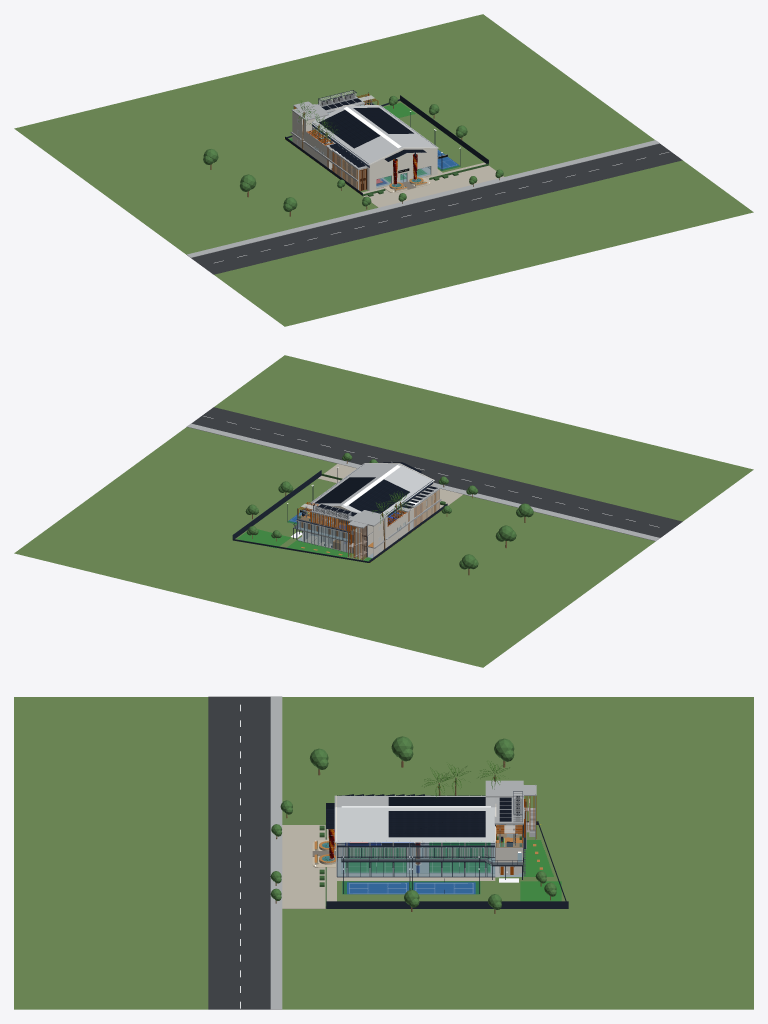
Rendered from MyPlace_Master_vR44.dae.
The picture shows the model from 3 angles, top to bottom: view 1: azimuth 30°, elevation 25°; view 2: azimuth 150°, elevation 25°; view 3: azimuth 270°, elevation 25°; orthographic projection. The views are drawn at different scales.
Visible parts, largest first — view 1: site__grass, site__asphalt, site__concrete, hall_roof__roofSheet, hall_roof__solar, site__paving, hall_shell__plaster, west_wing__plaster, trees__treeCrown, fences__charcoal; view 2: site__grass, site__asphalt, site__concrete, hall_roof__roofSheet, hall_roof__solar, trees__treeCrown, west_wing__plaster, fences__charcoal, outdoor__turf, site__paving; view 3: site__grass, site__asphalt, site__concrete, site__paving, hall_roof__roofSheet, hall_shell__glass, hall_roof__solar, hall_interior__court, trees__treeCrown, fences__charcoal, outdoor__pickleTex, outdoor__turf (+7 smaller).
Boxes of the visible parts, bbox=[...] form: site__grass: bbox=[14, 14, 753, 326]; site__asphalt: bbox=[191, 143, 682, 274]; site__concrete: bbox=[187, 140, 659, 257]; hall_roof__roofSheet: bbox=[312, 105, 438, 165]; hall_roof__solar: bbox=[319, 107, 413, 148]; site__paving: bbox=[362, 162, 503, 207]; hall_shell__plaster: bbox=[312, 105, 437, 190]; west_wing__plaster: bbox=[292, 111, 366, 190]; trees__treeCrown: bbox=[203, 96, 503, 211]; fences__charcoal: bbox=[285, 95, 488, 195]; site__grass: bbox=[14, 355, 753, 667]; site__asphalt: bbox=[191, 407, 682, 537]; site__concrete: bbox=[186, 423, 659, 541]; hall_roof__roofSheet: bbox=[309, 463, 434, 515]; hall_roof__solar: bbox=[314, 477, 409, 513]; trees__treeCrown: bbox=[245, 452, 533, 569]; west_wing__plaster: bbox=[373, 489, 439, 557]; fences__charcoal: bbox=[232, 470, 447, 562]; outdoor__turf: bbox=[237, 529, 371, 561]; site__paving: bbox=[318, 464, 462, 508]; site__grass: bbox=[14, 697, 753, 1009]; site__asphalt: bbox=[208, 696, 270, 1009]; site__concrete: bbox=[270, 696, 499, 1009]; site__paving: bbox=[282, 825, 495, 908]; hall_roof__roofSheet: bbox=[334, 795, 495, 842]; hall_shell__glass: bbox=[337, 847, 495, 876]; hall_roof__solar: bbox=[388, 797, 485, 837]; hall_interior__court: bbox=[345, 842, 490, 872]; trees__treeCrown: bbox=[270, 736, 556, 909]; fences__charcoal: bbox=[326, 821, 568, 908]; outdoor__pickleTex: bbox=[347, 882, 475, 894]; outdoor__turf: bbox=[520, 826, 561, 901].
Bounding box in the file's own units: 160 × 160 × 16.29.
88 materials, 6 textured.
